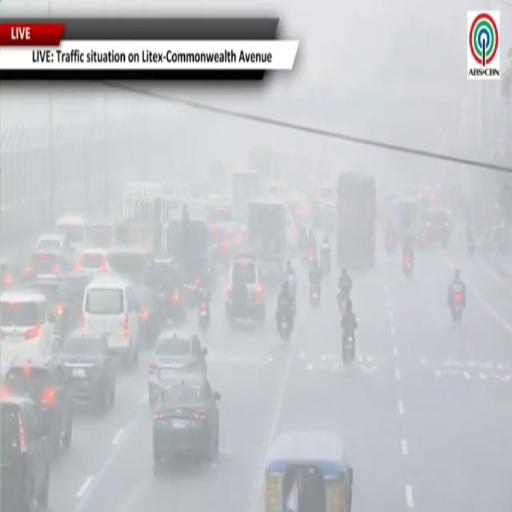car: (5, 358, 73, 457), (153, 374, 220, 472), (0, 389, 50, 511), (82, 275, 140, 365), (0, 290, 55, 375), (149, 329, 208, 408), (60, 331, 116, 412), (29, 277, 76, 346), (226, 255, 265, 325), (146, 258, 186, 323), (134, 286, 166, 346), (107, 248, 151, 284), (210, 221, 244, 266), (25, 250, 71, 280), (419, 207, 452, 246), (56, 215, 88, 251), (75, 248, 109, 276), (88, 219, 116, 248), (36, 233, 73, 254), (0, 260, 20, 290)
motorcycle: (198, 293, 210, 329), (278, 312, 292, 342), (342, 333, 355, 365), (451, 293, 463, 323), (337, 288, 349, 314), (310, 282, 320, 307), (385, 235, 398, 253), (321, 250, 330, 276), (403, 255, 413, 277), (307, 247, 315, 264), (468, 239, 476, 255)
truck: (337, 172, 377, 270), (247, 200, 286, 281), (232, 171, 260, 220)
